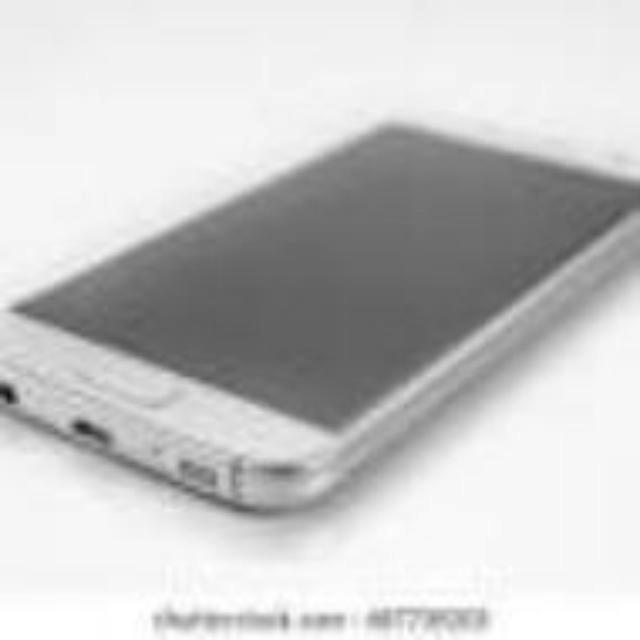fake: (0, 59, 640, 516)
